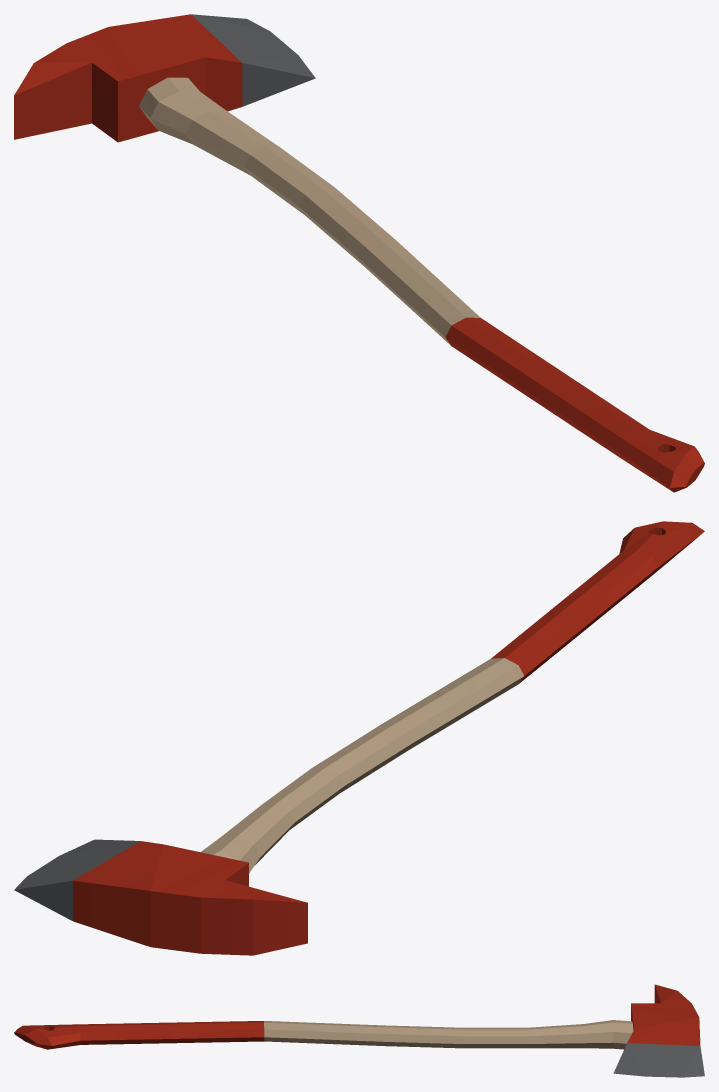
File: Axe_001.glb
3 views of the same model, one above another, from view 1: azimuth 30°, elevation 25°; view 2: azimuth 150°, elevation 25°; view 3: azimuth 270°, elevation 25° (orthographic). The views are drawn at different scales.
Visible parts, largest first — view 1: Axe.001; view 2: Axe.001; view 3: Axe.001.
Boxes of the visible parts, x1,y1,x2,y2 form: Axe.001: [14, 14, 704, 492]; Axe.001: [14, 521, 704, 955]; Axe.001: [14, 984, 704, 1077].
Size of the model in its own units: 0.5603 by 0.1163 by 2.04.
Materials: 1 (1 with a texture image).
